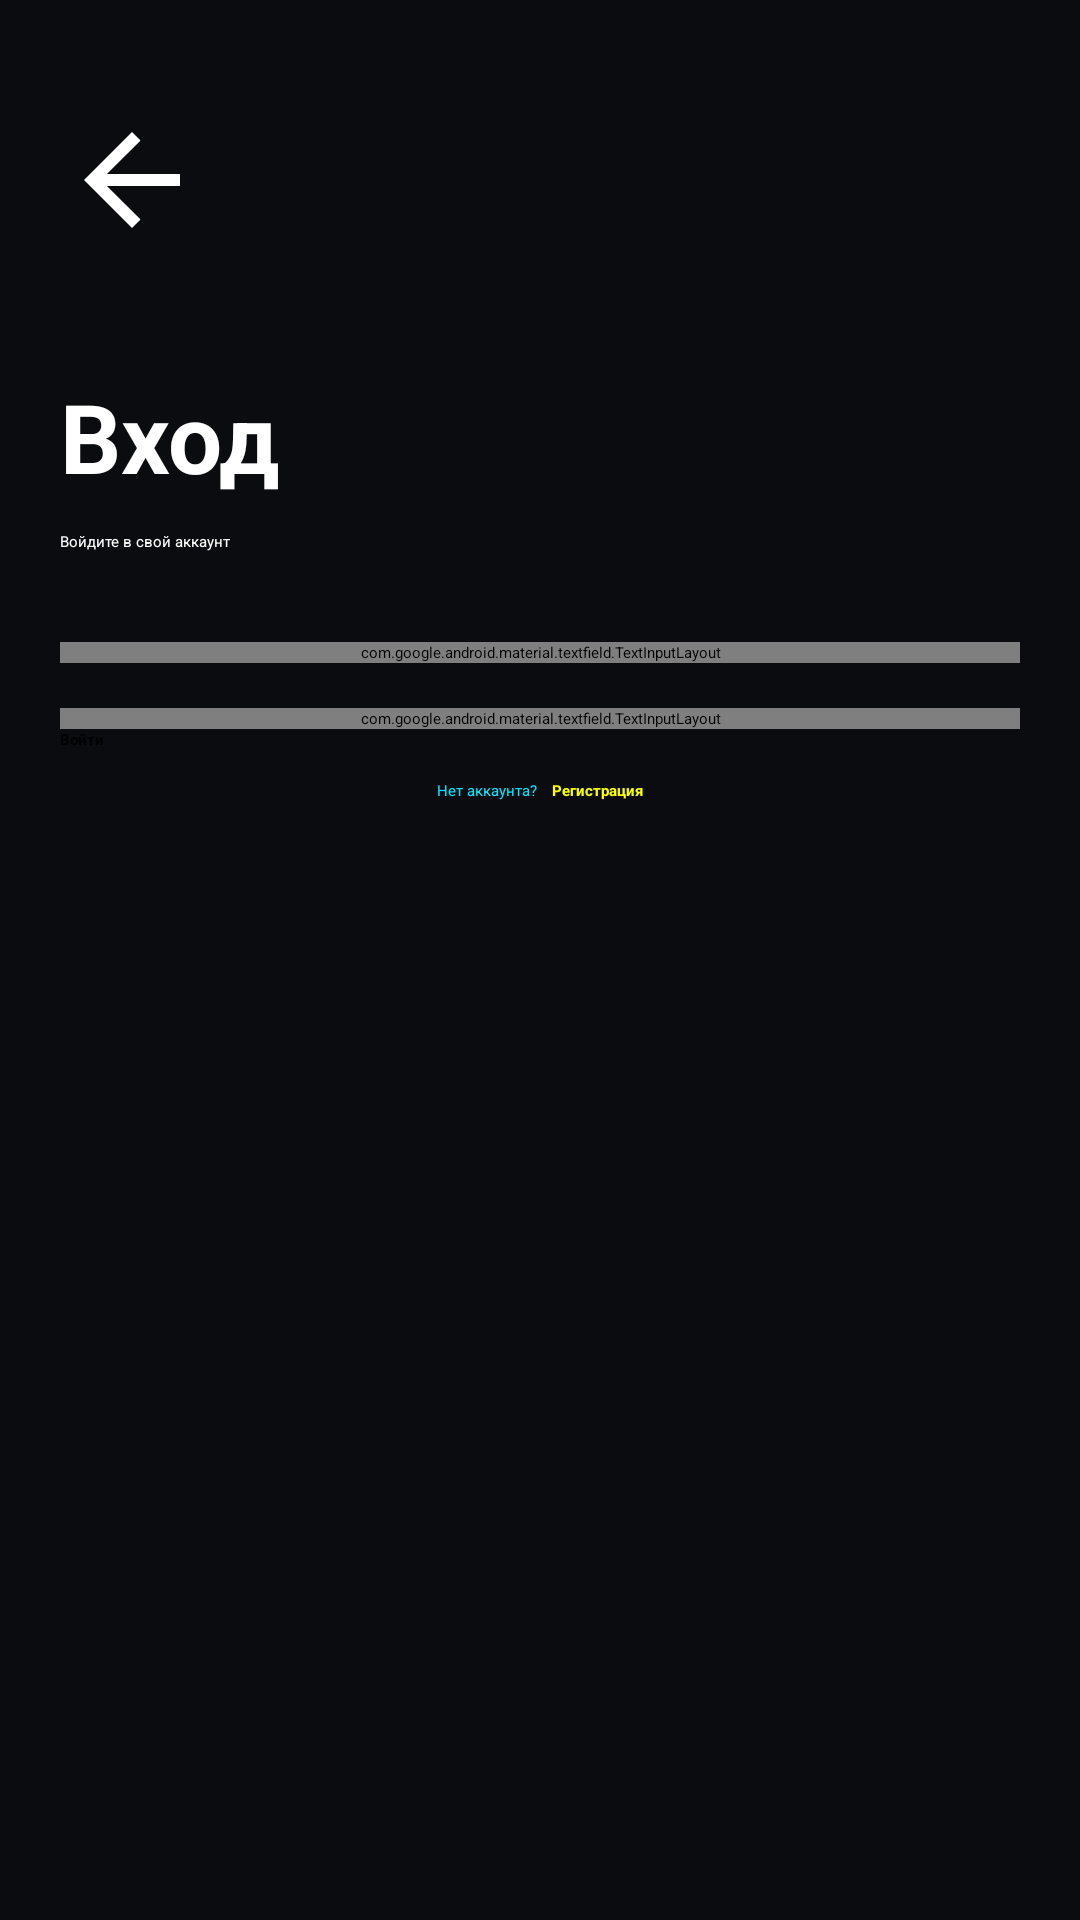

Named icons in this screenshot (1080px×1920px) and their centers, (x,y):
Назад: (132,180)
